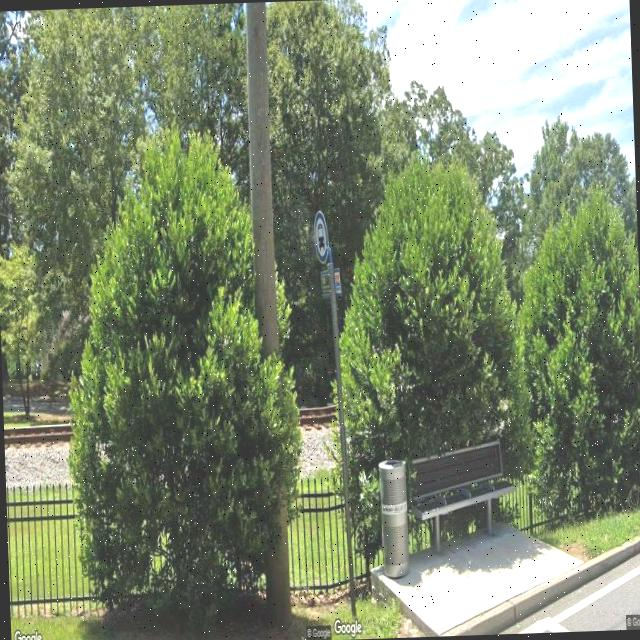seating: (407, 439, 519, 553)
trash_can: (378, 458, 410, 576)
